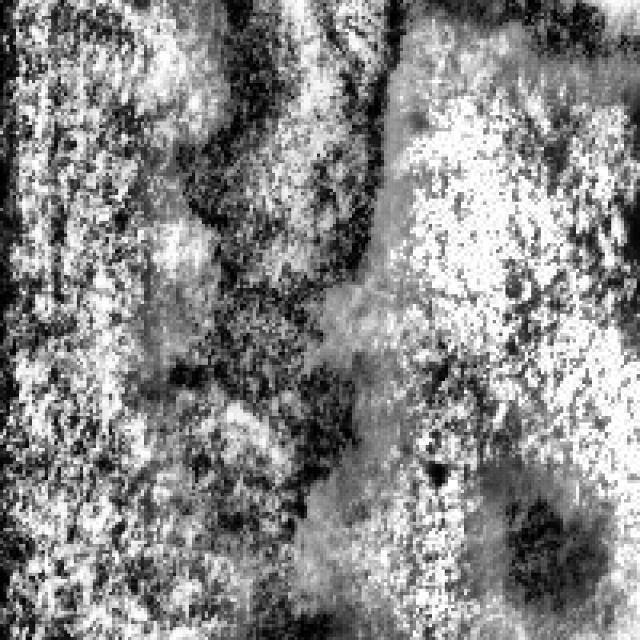Scratches: (163, 0, 387, 534)
